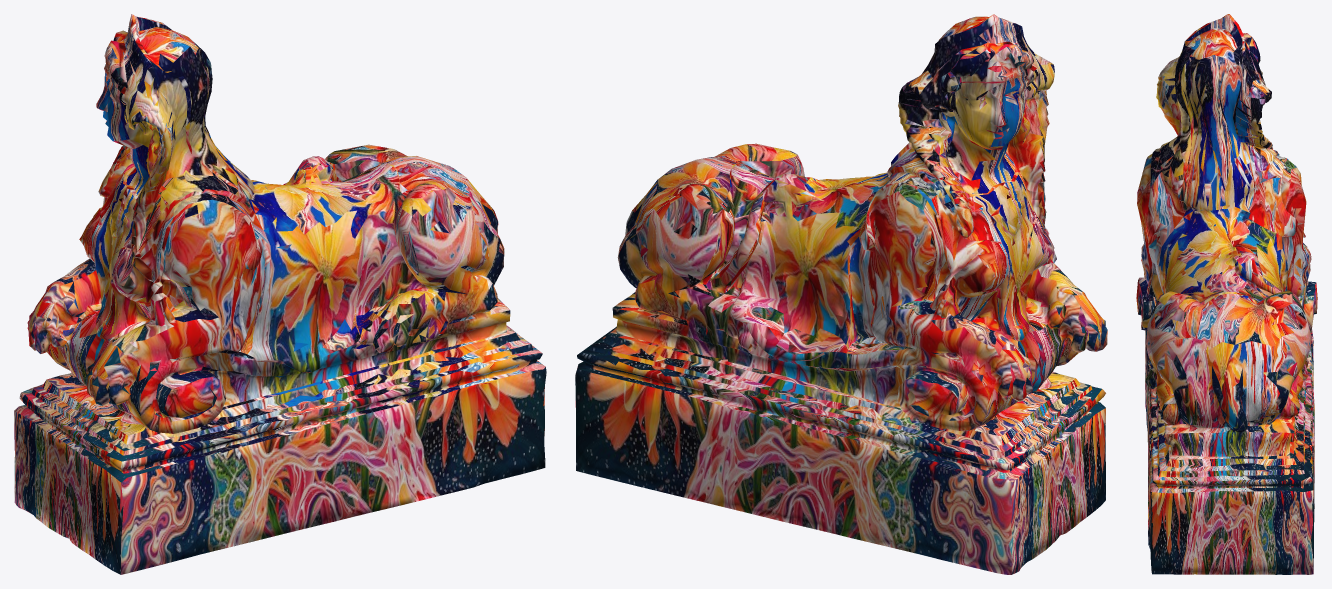
The model's file is tds_sphinx-1.glb.
3 views of the same model, side by side, from view 1: azimuth 30°, elevation 25°; view 2: azimuth 150°, elevation 25°; view 3: azimuth 270°, elevation 25° (orthographic). The views are drawn at different scales.
Visible parts, largest first — view 1: A; view 2: A; view 3: A.
Part boxes in pixels (box(x1,y1,x2,y2)): A: box(14, 14, 546, 574); A: box(575, 14, 1107, 574); A: box(1136, 14, 1317, 574).
Size of the model in its own units: 1.84 by 2 by 0.7915.
1 material, 1 textured.
